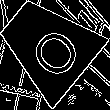O_NW: (15, 13, 80, 78)
